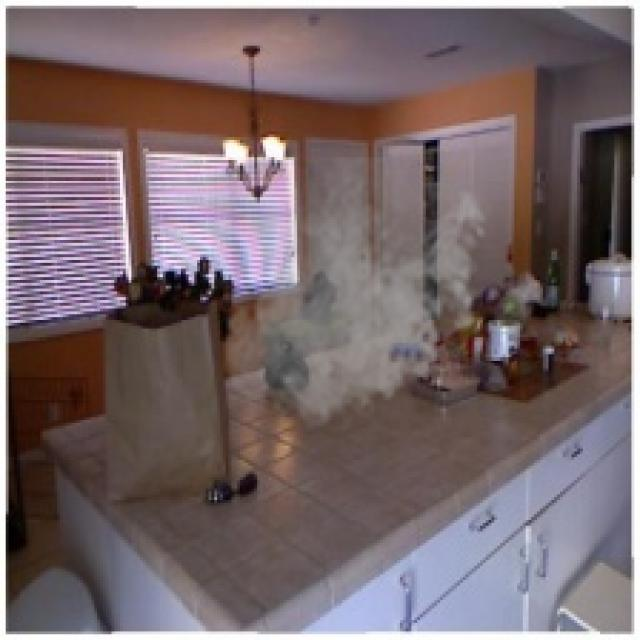smoke: (215, 157, 494, 437)
